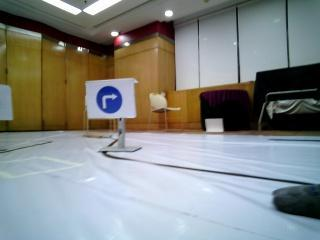right: (87, 79, 135, 118)
